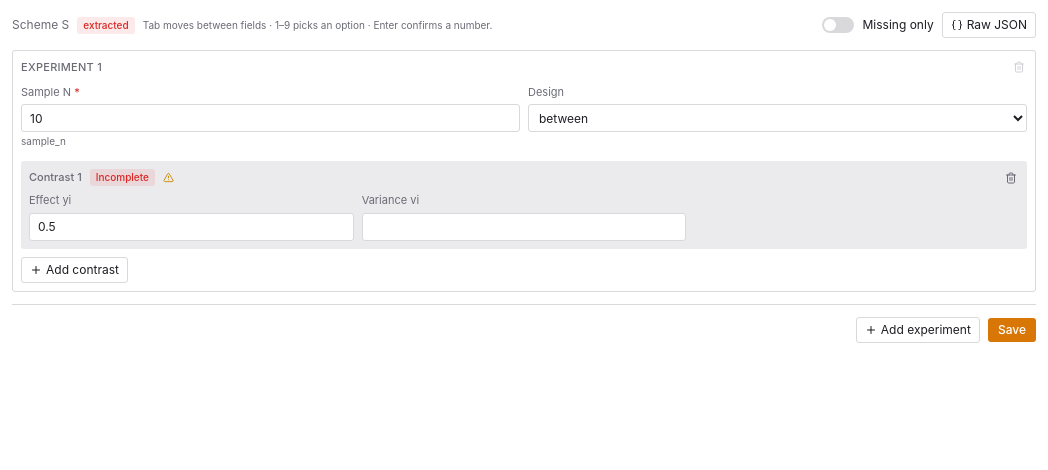
MetaExtractionForm › flags incomplete metrics and supports the missing-only + raw toggles
This screenshot has width=1048, height=470.
Click the switch labelled "Missing only" at (878, 25), box [822, 17, 934, 33]
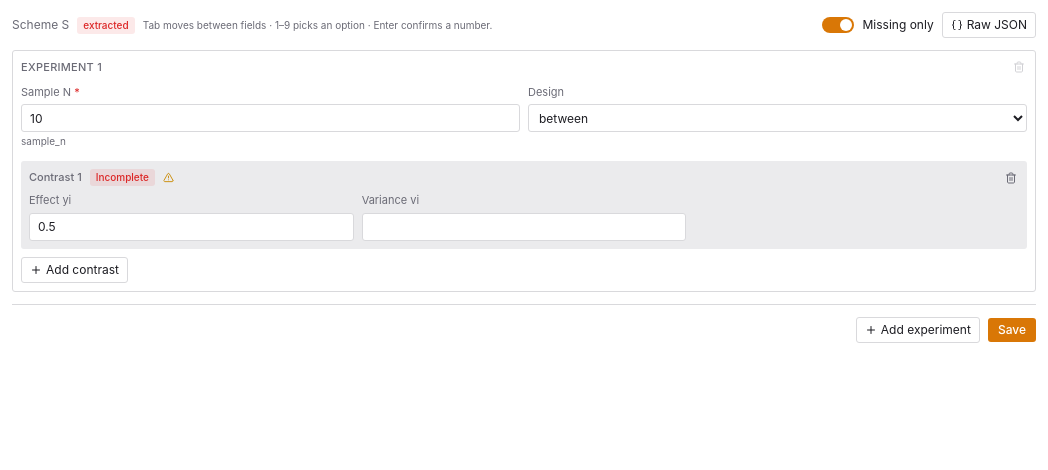
Click the button "Raw JSON" at (989, 25), box [942, 12, 1036, 38]
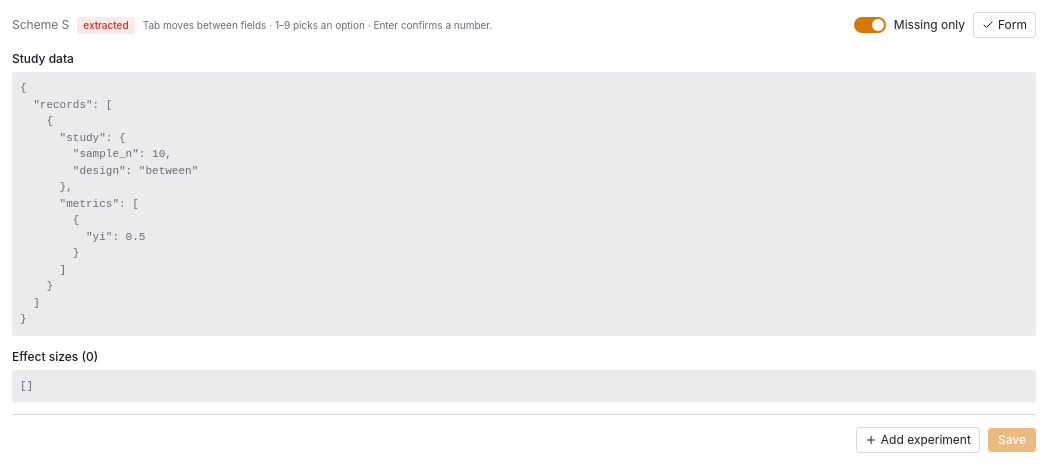
Expected: the button "Form" is shown, [973, 12, 1036, 38]
Expected: the text "Study data" is shown, [12, 51, 74, 66]
